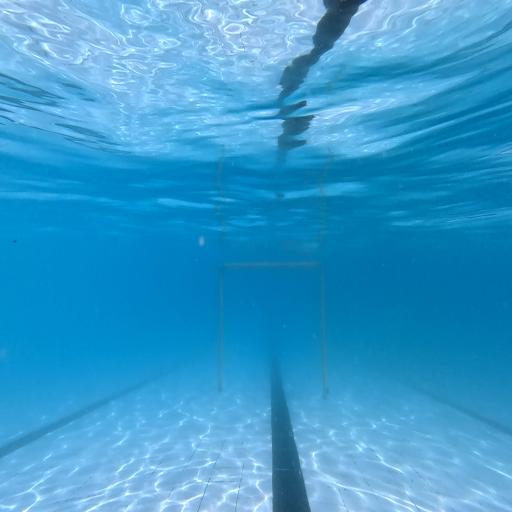gate: (219, 262, 329, 399)
